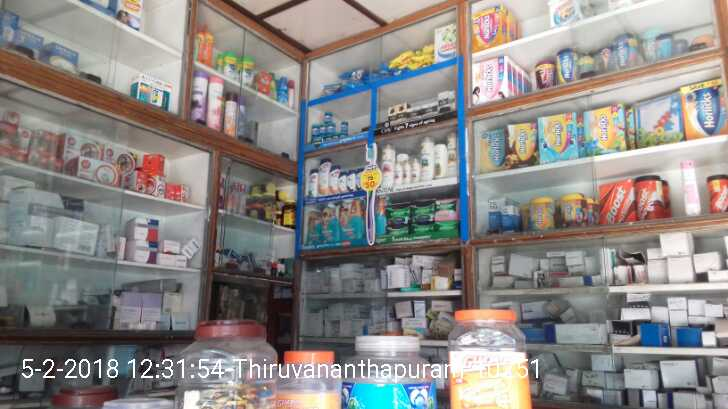vicks: (310, 109, 349, 147)
